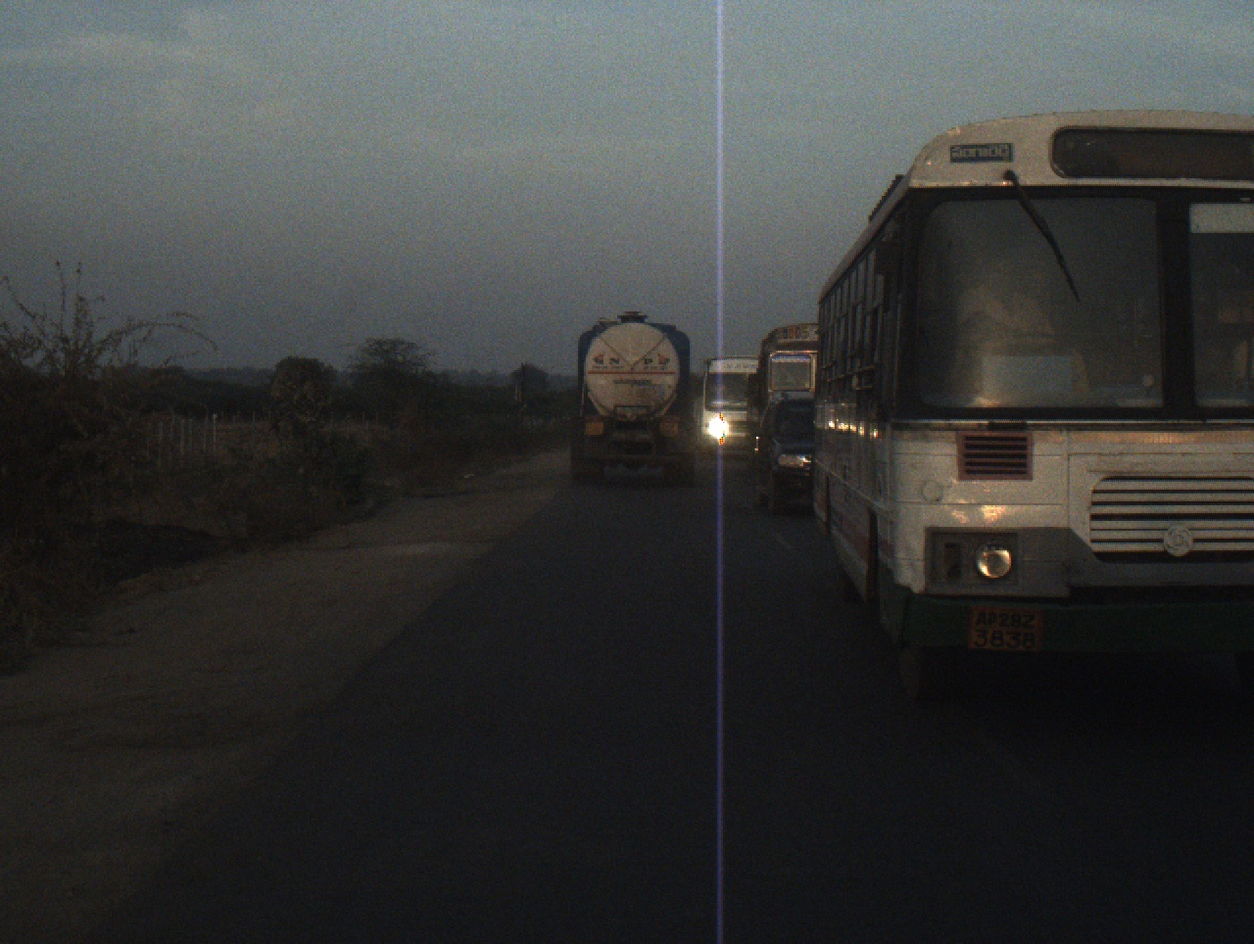bus: (808, 100, 1254, 726), (694, 353, 767, 468)
car: (756, 386, 826, 517)
truck: (570, 303, 703, 497), (741, 322, 843, 485)
